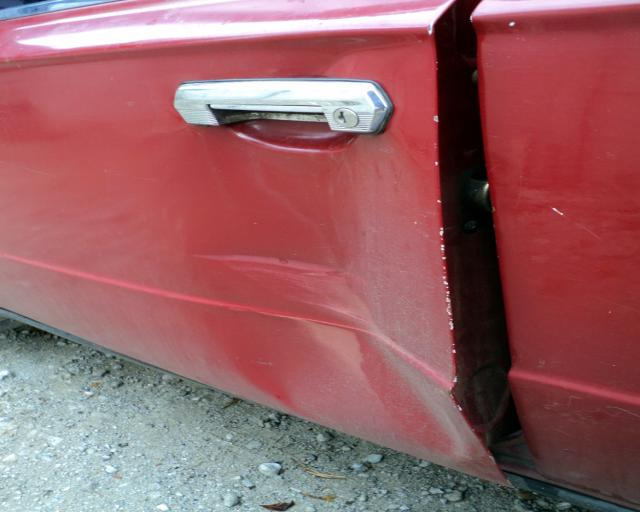dent: (173, 128, 459, 430)
